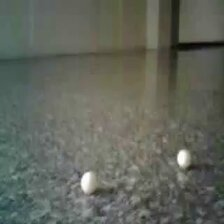w: (81, 172, 98, 193), (177, 149, 192, 168)
